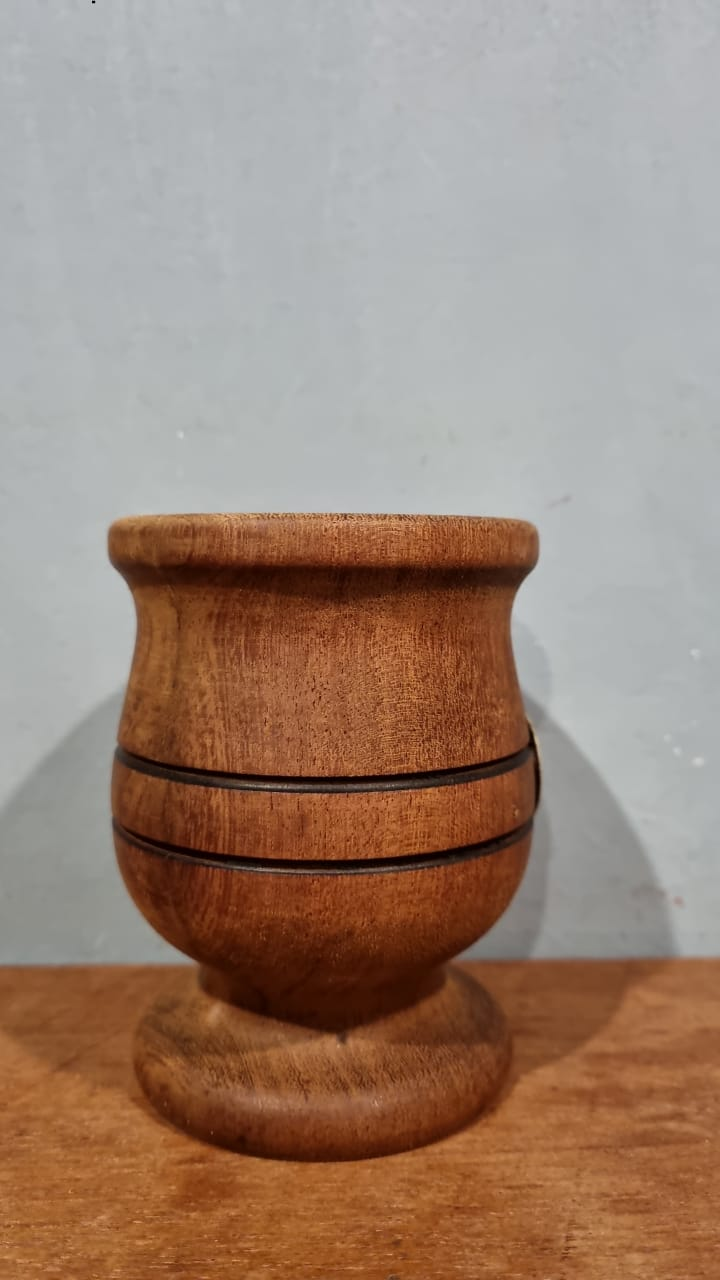madera: (96, 513, 551, 1169)
mate: (98, 515, 553, 1171)
